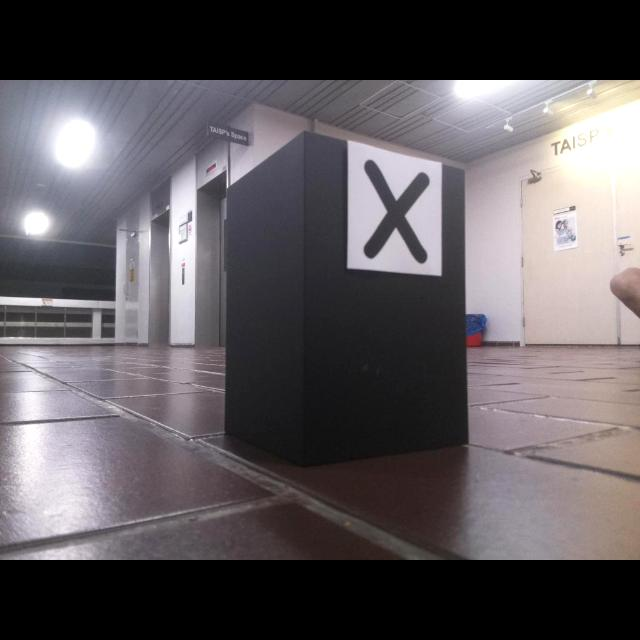X: (363, 159, 430, 264)
